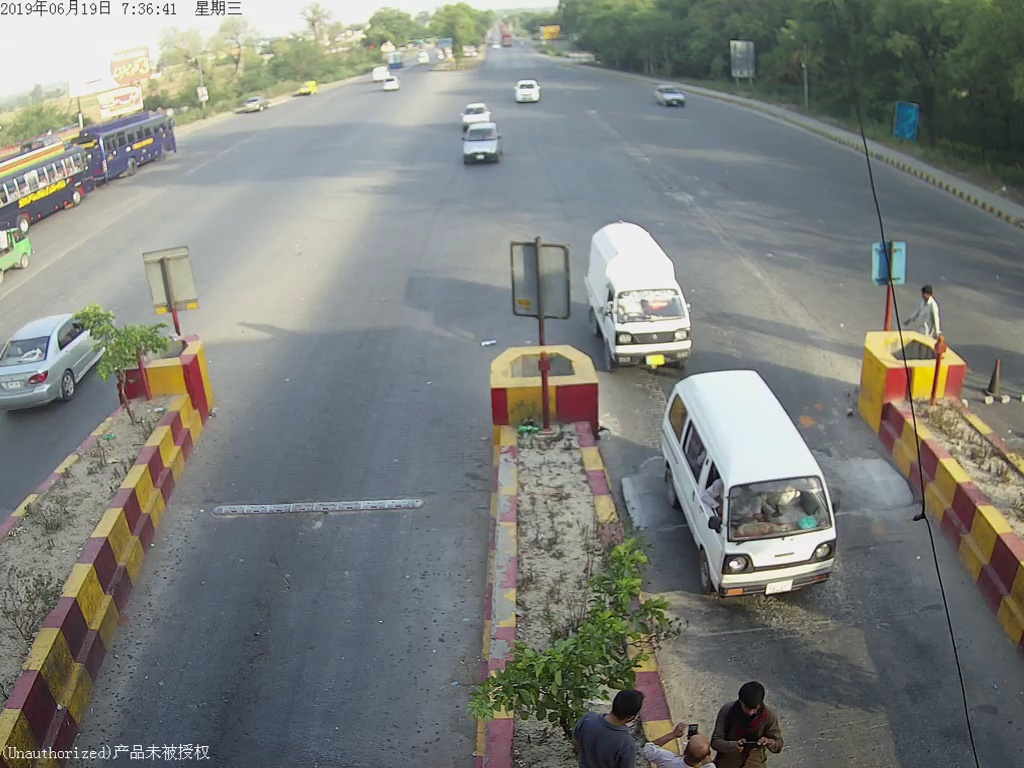Cat-1: (657, 365, 843, 599), (580, 216, 697, 370)
